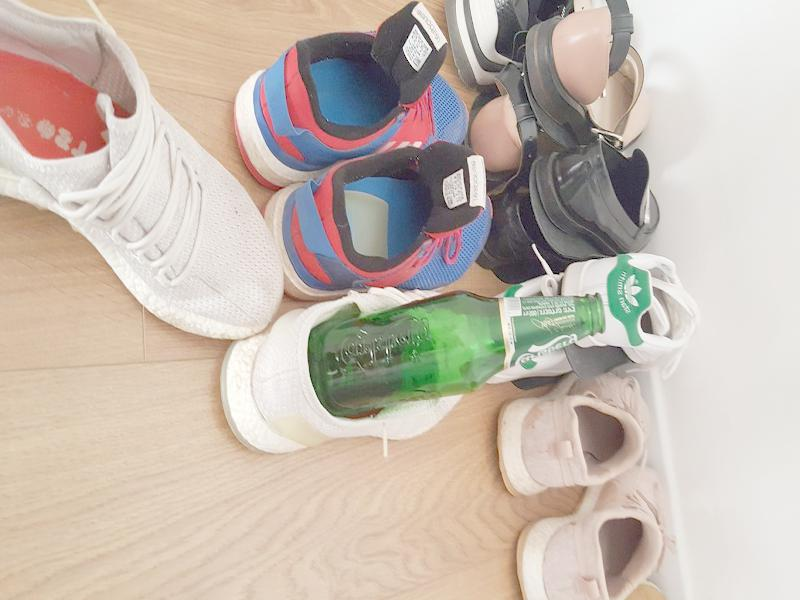Beer: (308, 289, 601, 415)
